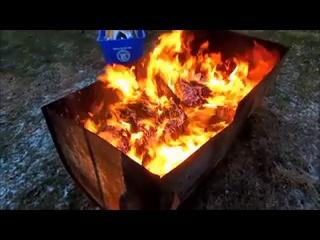fire: (94, 31, 266, 182)
